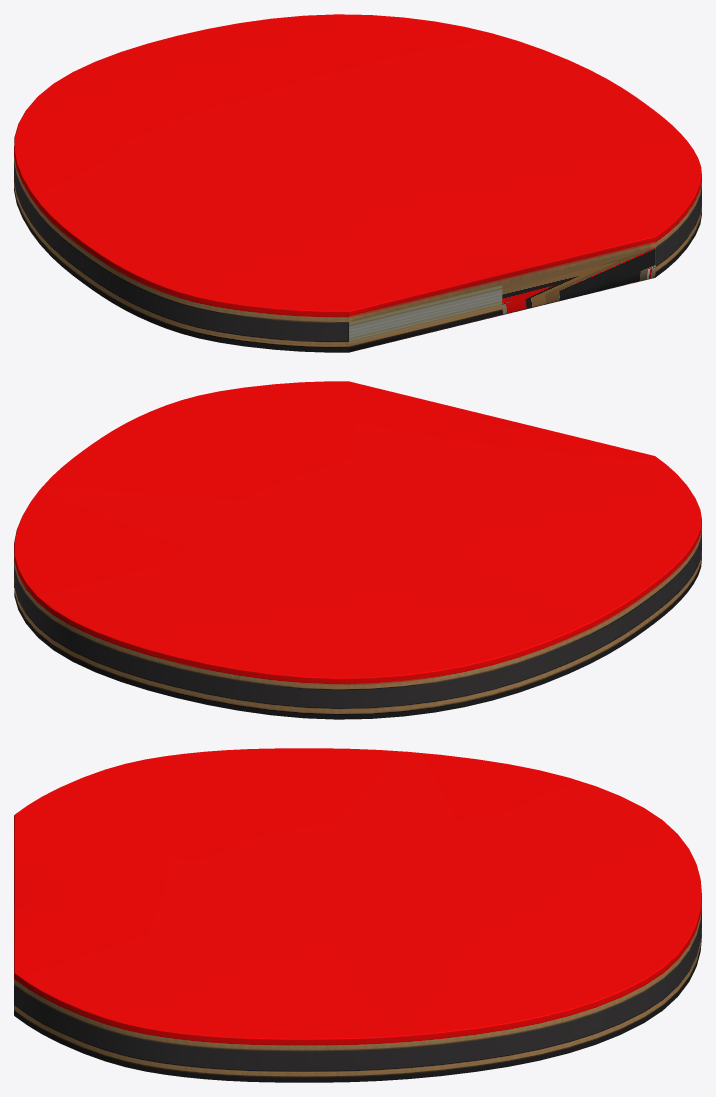
The model's file is ping pong paddle rubber collider.fbx.
The picture shows the model from 3 angles, top to bottom: view 1: azimuth 30°, elevation 25°; view 2: azimuth 150°, elevation 25°; view 3: azimuth 270°, elevation 25°; orthographic projection. The views are drawn at different scales.
Visible parts, largest first — view 1: SM_PingPongPaddle_paddle_col; view 2: SM_PingPongPaddle_paddle_col; view 3: SM_PingPongPaddle_paddle_col.
Part boxes in pixels (left/top/right/bottom): SM_PingPongPaddle_paddle_col: left=14, top=14, right=701, bottom=352; SM_PingPongPaddle_paddle_col: left=14, top=381, right=701, bottom=719; SM_PingPongPaddle_paddle_col: left=14, top=748, right=701, bottom=1082.
Bounding box in the file's own units: 273 × 19.37 × 273.
